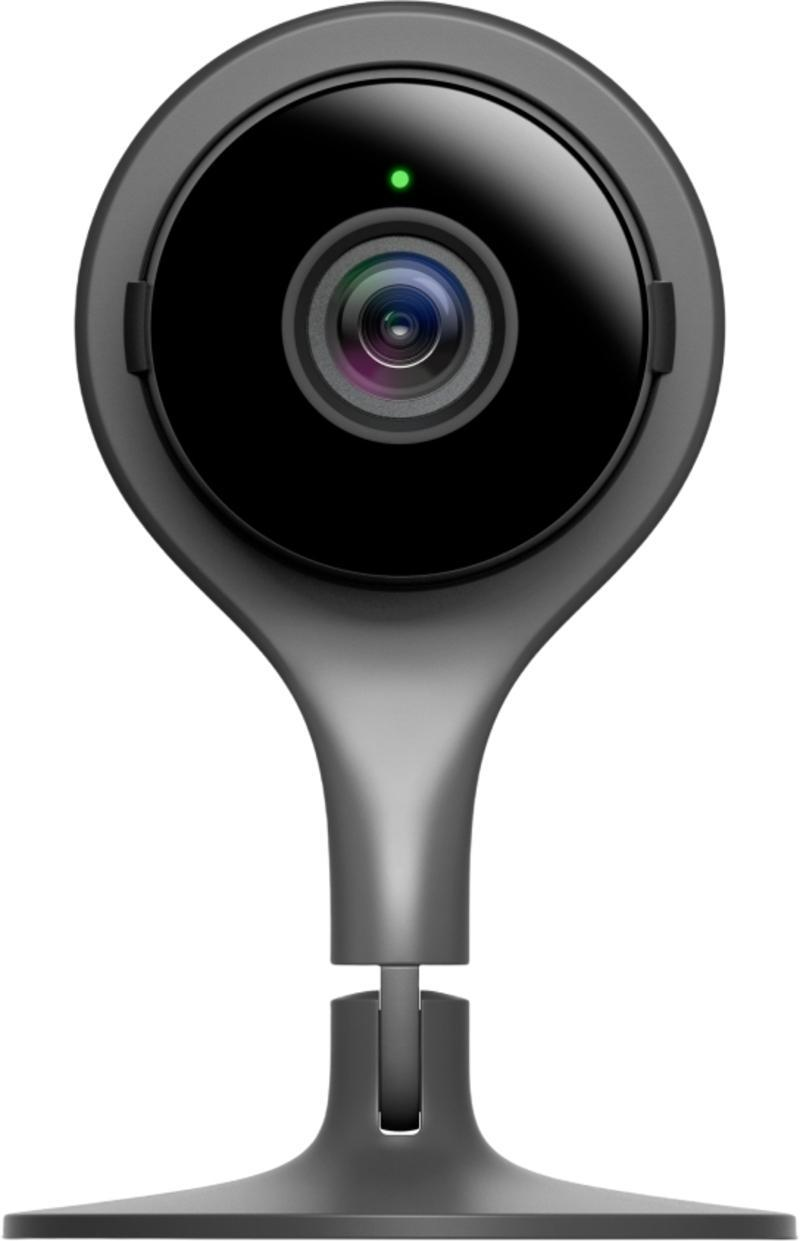nest: (1, 3, 798, 1239)
